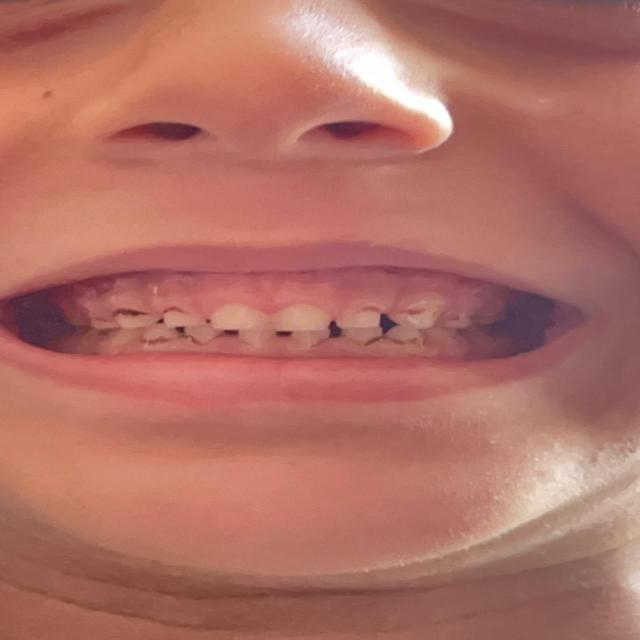tooth: (271, 308, 328, 330), (208, 310, 263, 328), (146, 325, 177, 346), (443, 306, 473, 324), (347, 312, 378, 328), (390, 328, 416, 347), (397, 312, 438, 324), (345, 330, 377, 345), (114, 310, 146, 324), (162, 308, 189, 324), (286, 335, 321, 347), (238, 332, 265, 344), (107, 327, 133, 339), (192, 330, 212, 344)
